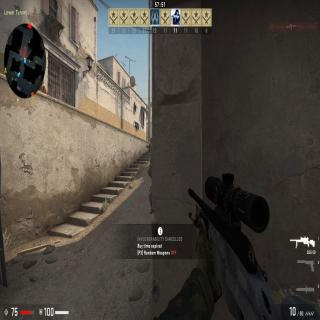T-Body: (147, 151, 154, 216), (148, 134, 152, 150)
T-Head: (149, 137, 152, 142)
